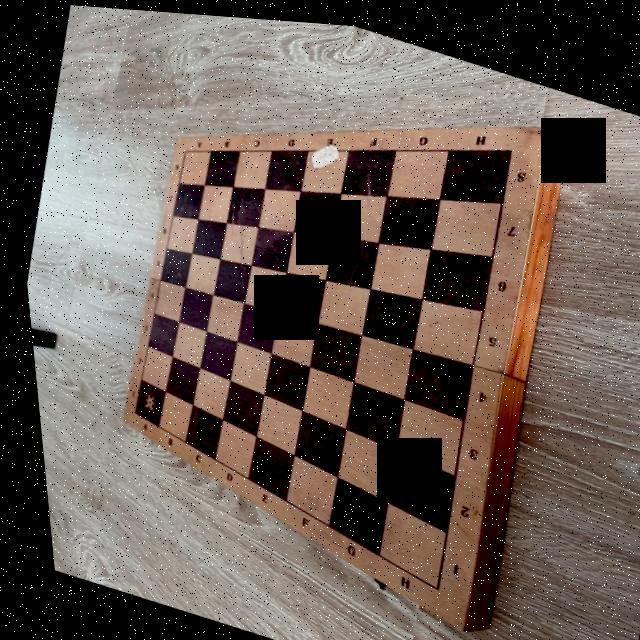chess-table-corners: (418, 576, 433, 589), (501, 135, 515, 148), (176, 142, 188, 153), (122, 406, 132, 416)
